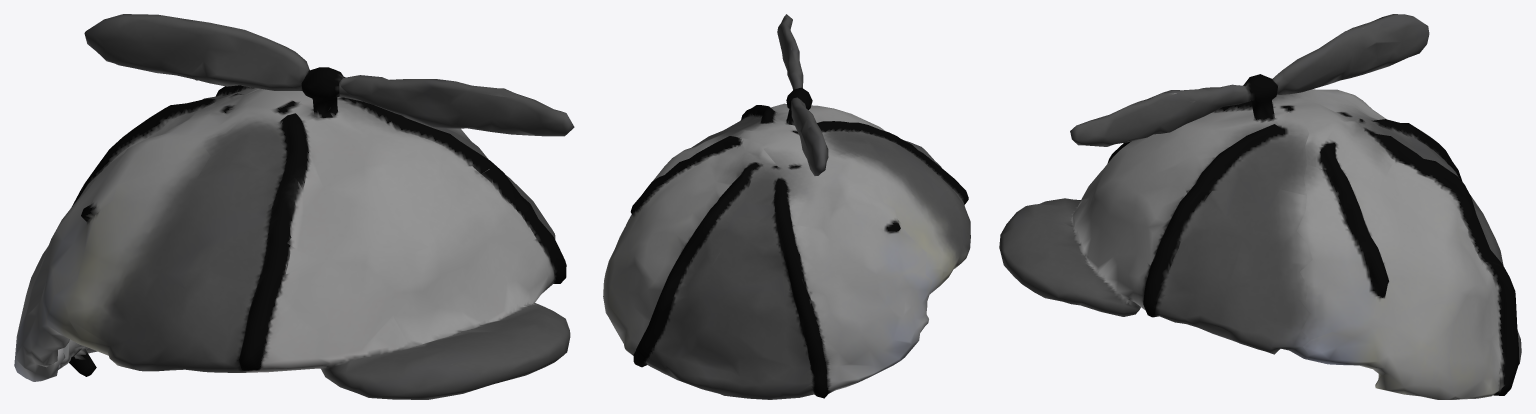
Rendered from beanie monochrome.glb.
3 renders of one model, left to right at view 1: azimuth 30°, elevation 25°; view 2: azimuth 150°, elevation 25°; view 3: azimuth 270°, elevation 25°, orthographic. The views are drawn at different scales.
Visible parts, largest first — view 1: hat_beanie_monochrome.001; view 2: hat_beanie_monochrome.001; view 3: hat_beanie_monochrome.001.
Part boxes in pixels (x1,y1,x2,y2): hat_beanie_monochrome.001: (14,14,574,399); hat_beanie_monochrome.001: (603,14,970,399); hat_beanie_monochrome.001: (999,14,1521,399).
Size of the model in its own units: 0.3445 by 0.2641 by 0.4042.
1 material, 1 textured.
